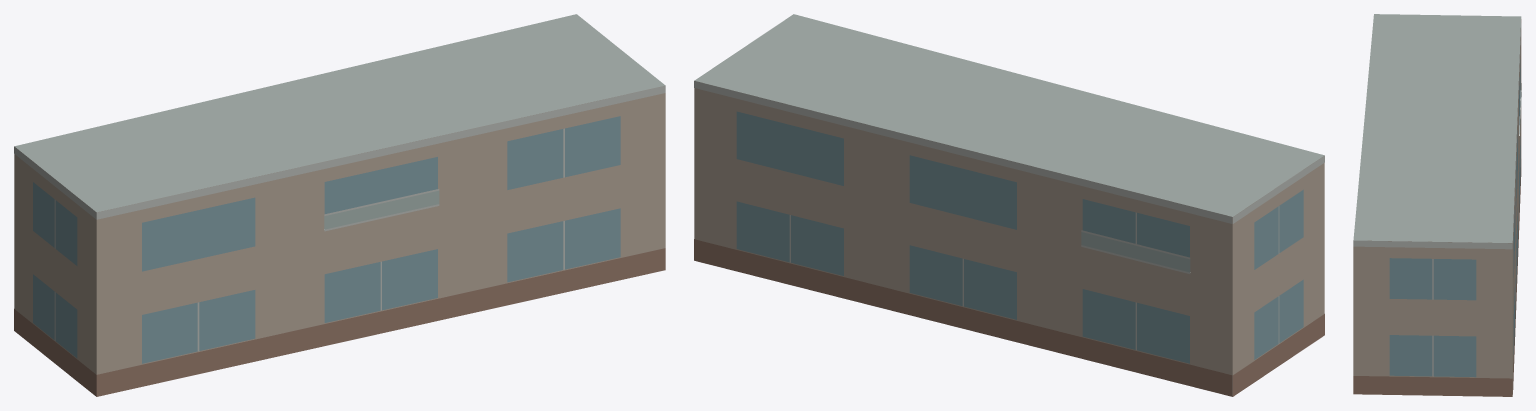
Rendered from survey-upis-32808352.glb.
3 views of the same model, side by side, from view 1: azimuth 30°, elevation 25°; view 2: azimuth 150°, elevation 25°; view 3: azimuth 270°, elevation 25° (orthographic). The views are drawn at different scales.
Parts seen in each view (by area): view 1: survey-upis-32808352.tmp; view 2: survey-upis-32808352.tmp; view 3: survey-upis-32808352.tmp.
Boxes of the visible parts, x1=… form: survey-upis-32808352.tmp: x1=14, y1=14, x2=665, y2=396; survey-upis-32808352.tmp: x1=694, y1=14, x2=1324, y2=396; survey-upis-32808352.tmp: x1=1353, y1=14, x2=1521, y2=396.
Size of the model in its own units: 19.5 by 6.1 by 6.06.
